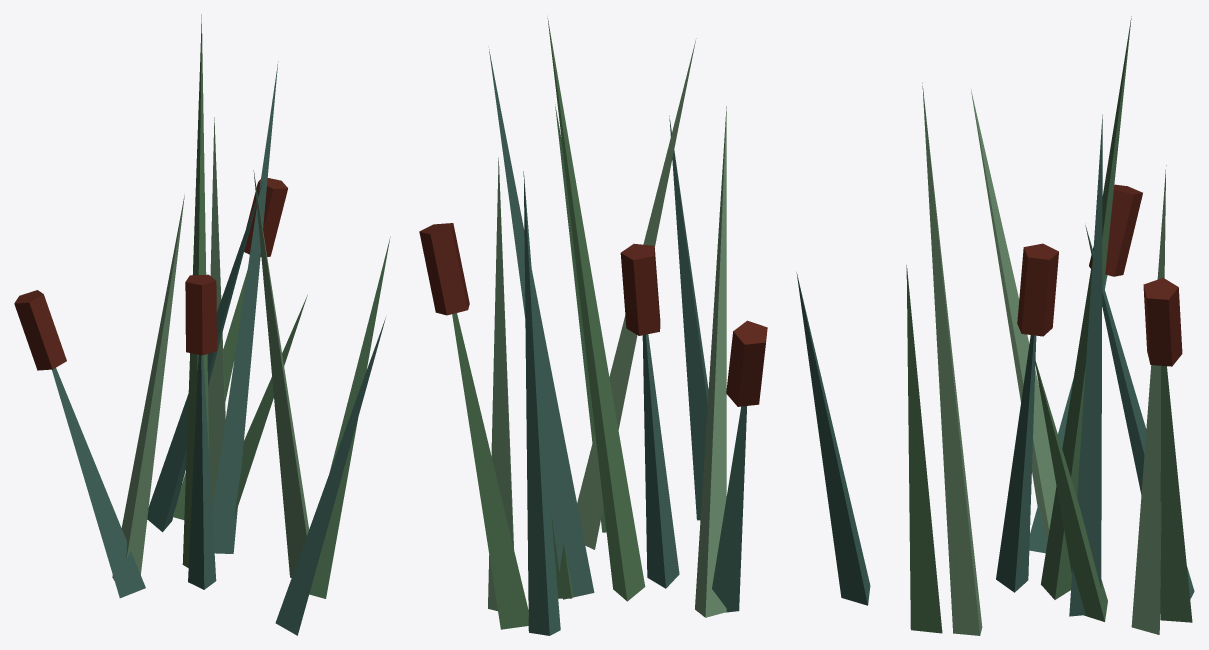
The model's file is reeds.glb.
3 views of the same model, side by side, from view 1: azimuth 30°, elevation 25°; view 2: azimuth 150°, elevation 25°; view 3: azimuth 270°, elevation 25° (orthographic). The views are drawn at different scales.
Visible parts, largest first — view 1: pine_l10, moss_l15, moss_d10, coal_d50; view 2: pine_l10, moss_d10, moss_l15, coal_d50; view 3: moss_d10, pine_l10, moss_l15, coal_d50.
Boxes of the visible parts, left/top/right/bottom form: pine_l10: left=52, top=61, right=385, bottom=635; moss_l15: left=112, top=117, right=309, bottom=580; moss_d10: left=172, top=14, right=390, bottom=598; coal_d50: left=14, top=178, right=287, bottom=370; pine_l10: left=488, top=47, right=746, bottom=635; moss_d10: left=452, top=18, right=645, bottom=629; moss_l15: left=488, top=38, right=726, bottom=617; coal_d50: left=419, top=223, right=767, bottom=406; moss_d10: left=906, top=16, right=1192, bottom=633; pine_l10: left=796, top=114, right=1194, bottom=616; moss_l15: left=922, top=82, right=1166, bottom=635; coal_d50: left=1017, top=184, right=1182, bottom=366.
Size of the model in its own units: 0.7037 by 1.23 by 0.7394.
